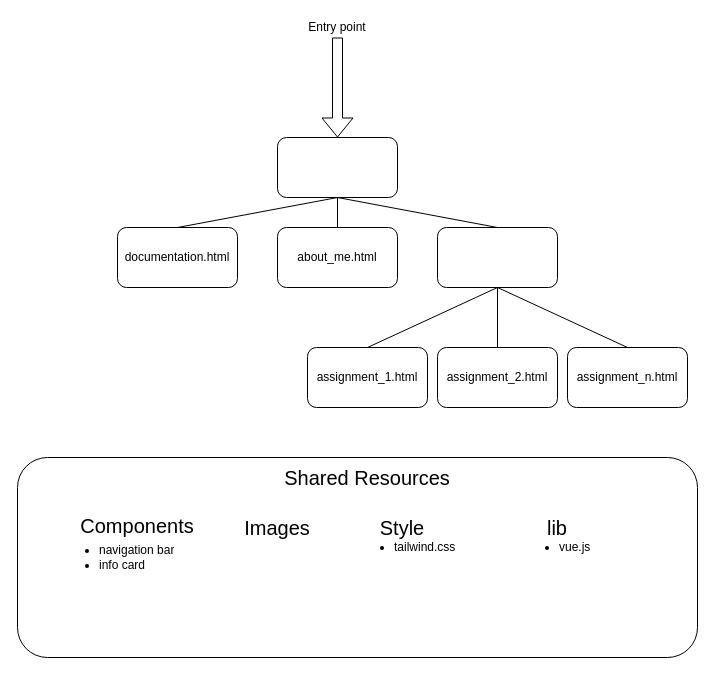
The diagram is 715 pixels wide and 675 high, and some of its shapes have lost their labels. Each missing label, with the centre of its shape:
"assignments.html" goes at [497,257].
"index.html" goes at [337,167].
